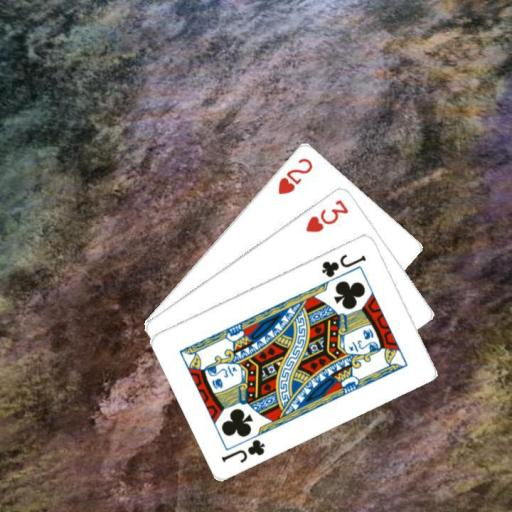2H: (275, 154, 315, 196)
3H: (302, 196, 351, 234)
JC: (319, 250, 368, 279), (218, 436, 267, 465)
